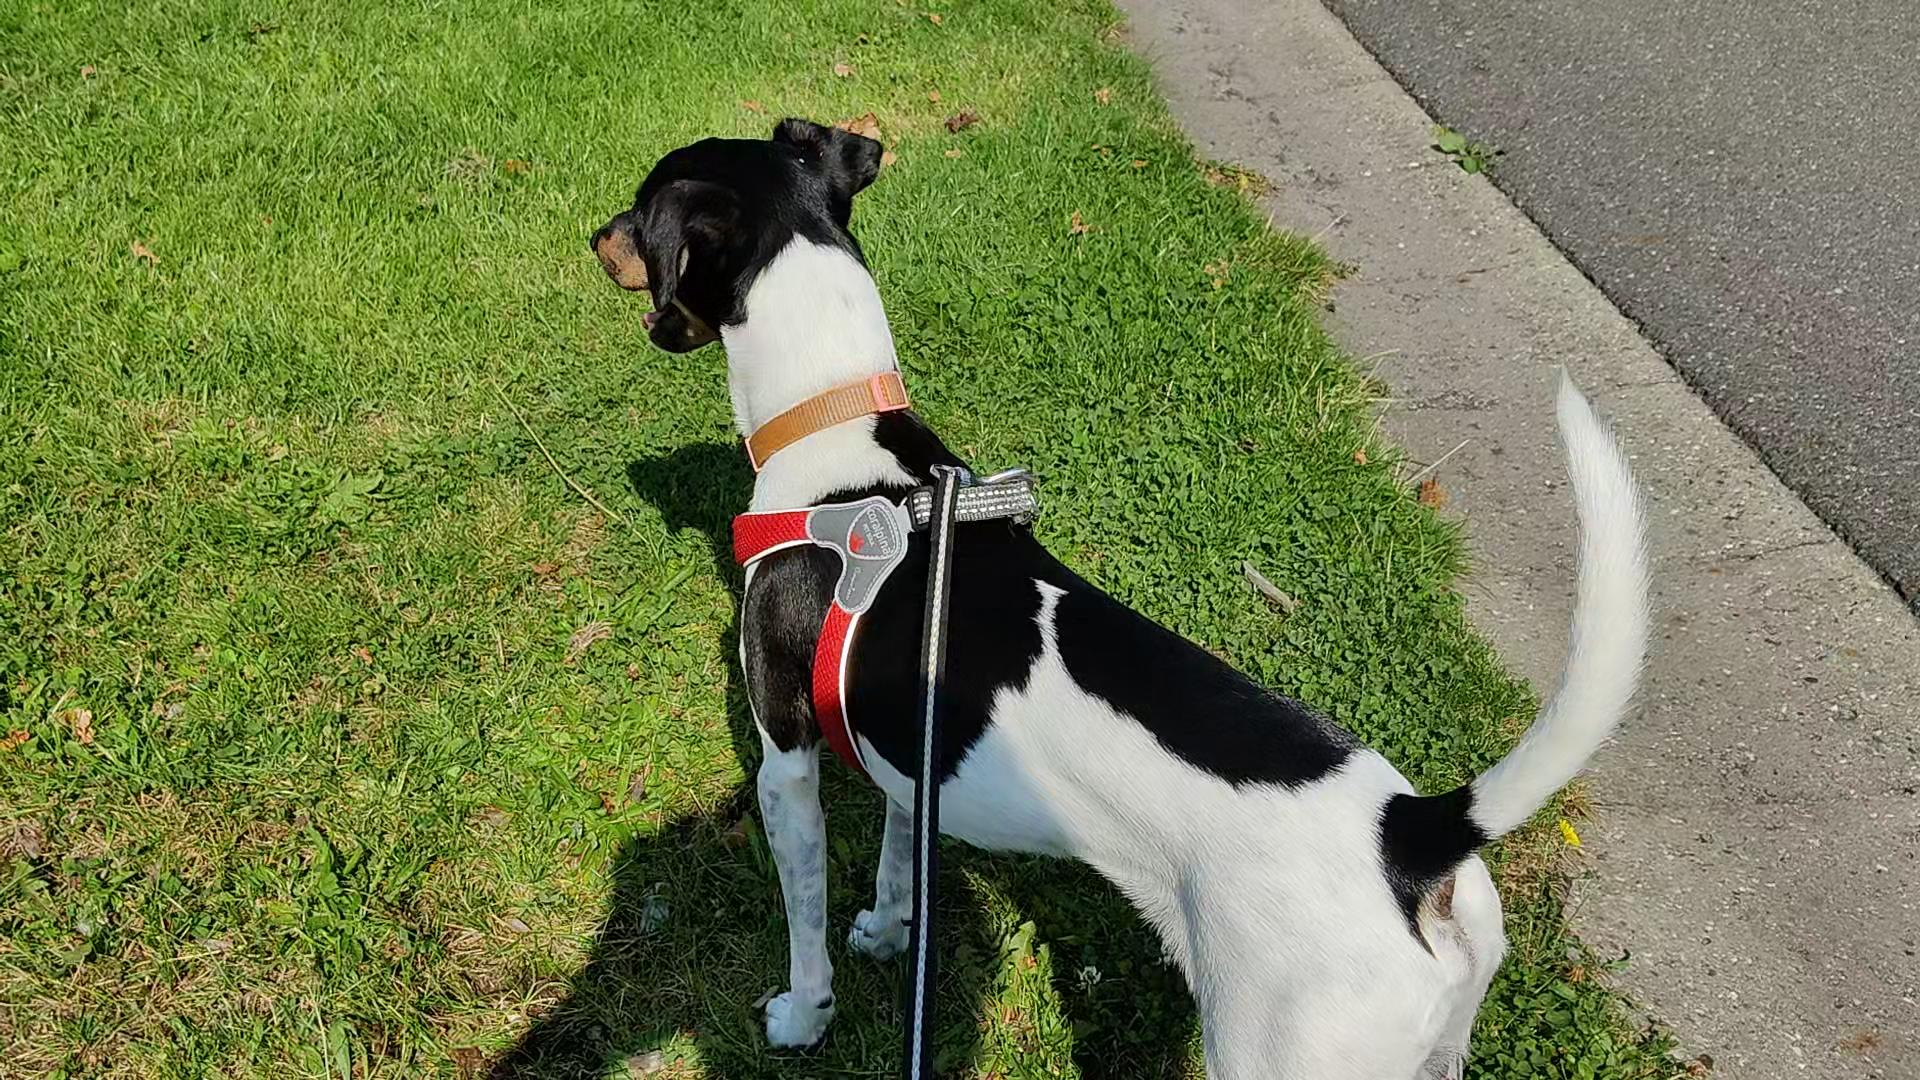Dog: (578, 102, 1671, 1079)
